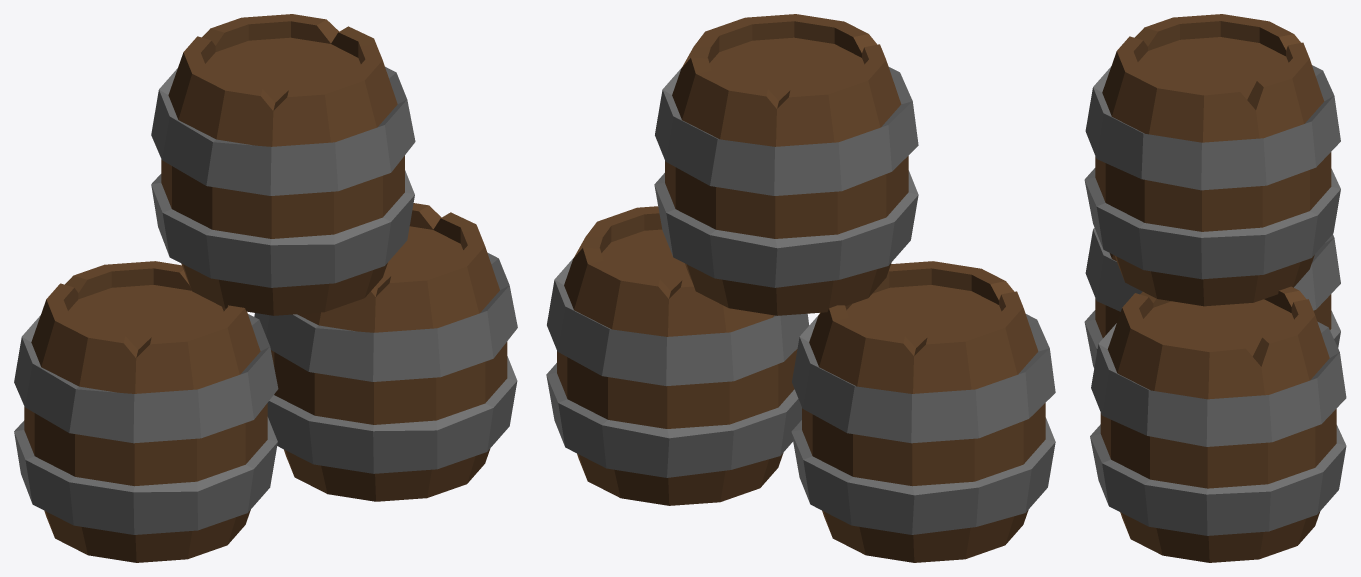
Rendered from Barrel2.fbx.
3 views of the same model, side by side, from view 1: azimuth 30°, elevation 25°; view 2: azimuth 150°, elevation 25°; view 3: azimuth 270°, elevation 25° (orthographic). The views are drawn at different scales.
Parts seen in each view (by area): view 1: barrel2; view 2: barrel2; view 3: barrel2.
Part boxes in pixels (x1,y1,x2,y2): barrel2: (14, 14, 517, 562); barrel2: (546, 14, 1055, 562); barrel2: (1084, 14, 1346, 562).
Bounding box in the file's own units: 197 × 173 × 98.16.
